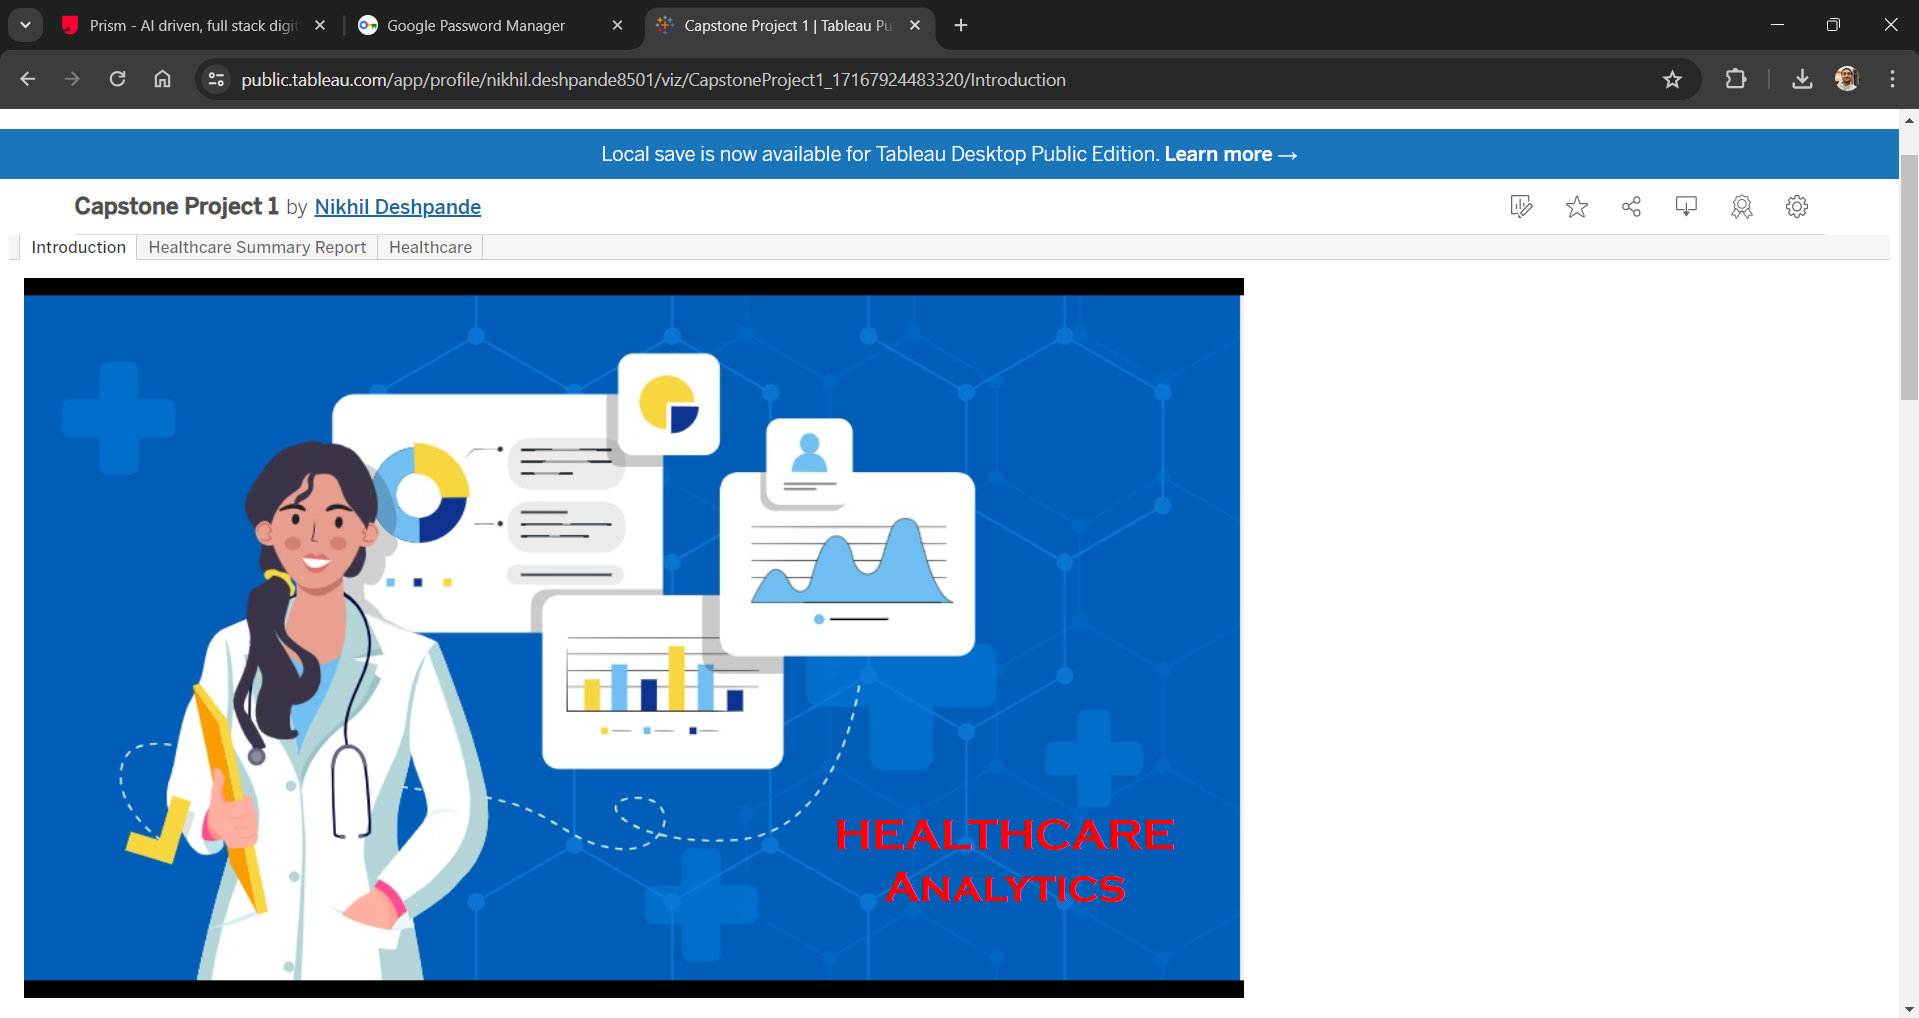

This screenshot's page, from the dashboard's own definition file:
{"tool":"tableau","page":{"name":"Introduction","canvas":[1000,600],"ordinal":1},"visuals":[{"type":"image","param":"Image/Healthcare.png","box":[8,8,984,584]},{"type":"text","box":[611,389,371,180]}]}

Visuals, with their boxes on the page's 1000x600 design canvas (x1, y1, x2, y2). These are canvas units, not pixel positions in the 1919x1018 screenshot, which may show the page scaled, cropped or inside an application window:
image: 8 8 992 592
text: 611 389 982 569
